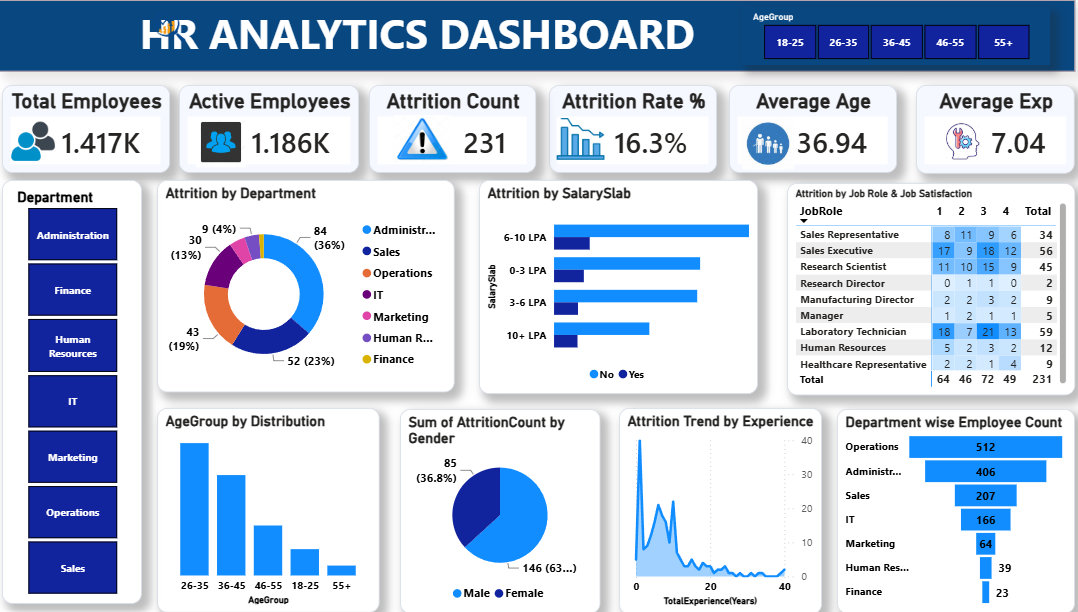

Layout of this report page (visuals, bound fields, positions):
{"tool":"powerbi","page":{"name":"HR ANALYRICS DASHBOARD ","canvas":[1280,720],"ordinal":0},"visuals":[{"type":"textbox","box":[10.6,0,1261.8,84.4],"z":0},{"type":"image","box":[162.2,0,97.8,64.4],"z":1000},{"type":"cardVisual","title":"Total Employees","fields":{"Data":["CountNonNull(HR_Analytics Data set.EmpID)"]},"box":[14.4,100,196.7,103.3],"z":2000},{"type":"cardVisual","title":"Attrition Rate %","fields":{"Data":["HR_Analytics Data set.Atrrition Rate %"]},"box":[655.5,99.7,197,103.2],"z":3000},{"type":"cardVisual","title":"Average Age","fields":{"Data":["Avg(HR_Analytics Data set.Age)"]},"box":[866.7,100,196.7,103.3],"z":4000},{"type":"cardVisual","title":"Average Exp","fields":{"Data":["Avg(HR_Analytics Data set.YearsatCompany)"]},"box":[1086.1,100,186.1,103.8],"z":5000},{"type":"cardVisual","title":"Active Employees","fields":{"Data":["CountNonNull(HR_Analytics Data set.EmployeeCount)"]},"box":[221.1,100,211.1,103.3],"z":6000},{"type":"cardVisual","title":"Attrition Count ","fields":{"Data":["Sum(HR_Analytics Data set.AttritionCount)"]},"box":[444.4,99.7,195.8,103.2],"z":7000},{"type":"image","box":[1112.7,141.8,57,48.1],"z":8000},{"type":"image","box":[233.3,136.7,74.4,58.9],"z":9000},{"type":"image","box":[655.5,138.4,73.9,49.3],"z":10000},{"type":"image","box":[471.4,134.9,71.5,56.3],"z":11000},{"type":"image","box":[882.2,134.4,61.1,67.8],"z":12000},{"type":"image","box":[14.4,136.7,73.3,56.7],"z":13000},{"type":"donutChart","title":"Attrition by Department","fields":{"Category":["HR_Analytics Data set.Department"],"Y":["Sum(HR_Analytics Data set.AttritionCount)"]},"box":[195.8,211.1,349.4,248.6],"z":14000},{"type":"clusteredBarChart","title":"Attrition by SalarySlab","fields":{"Y":["CountNonNull(HR_Analytics Data set.EmpID)"],"Category":["HR_Analytics Data set.SalarySlab"],"Series":["HR_Analytics Data set.Attrition"]},"box":[573.4,211.1,327.2,250.9],"z":15000},{"type":"pivotTable","title":"Attrition by Job Role & Job Satisfaction","fields":{"Rows":["HR_Analytics Data set.JobRole"],"Values":["Sum(HR_Analytics Data set.AttritionCount)"],"Columns":["HR_Analytics Data set.JobSatisfaction"]},"box":[934.6,214.6,337.7,248.6],"z":16000},{"type":"columnChart","title":"AgeGroup by Distribution","fields":{"Category":["HR_Analytics Data set.AgeGroup"],"Y":["Sum(HR_Analytics Data set.EmployeeCount)"]},"box":[195.8,478.4,261.5,240.4],"z":17000},{"type":"pieChart","fields":{"Category":["HR_Analytics Data set.Gender"],"Y":["Sum(HR_Analytics Data set.AttritionCount)"]},"box":[480.8,479.6,234.5,240.4],"z":18000},{"type":"areaChart","title":"Attrition Trend by Experience","fields":{"Category":["HR_Analytics Data set.TotalExperience(Years)"],"Y2":["Sum(HR_Analytics Data set.AttritionCount)"]},"box":[737.6,478.4,238,241.6],"z":19000},{"type":"funnel","title":"Department wise Employee Count","fields":{"Category":["HR_Analytics Data set.Department"],"Y":["CountNonNull(HR_Analytics Data set.EmpID)"]},"box":[993.2,479.6,279.1,240.4],"z":20000},{"type":"slicer","fields":{"Values":["HR_Analytics Data set.Department"]},"box":[14.1,211.1,164.2,497.2],"z":21000},{"type":"slicer","fields":{"Values":["HR_Analytics Data set.AgeGroup"]},"box":[881.8,8.2,361.2,68],"z":22000}]}

Visuals, with their boxes in screenshot pixels (x1, y1, x2, y2), scaled from the page's 1280x720 canvas onto the 1078x612 screenshot:
textbox: 9:0:1072:72
image: 137:0:219:55
"Total Employees" cardVisual: 12:85:178:173
"Attrition Rate %" cardVisual: 552:85:718:172
"Average Age" cardVisual: 730:85:896:173
"Average Exp" cardVisual: 915:85:1071:173
"Active Employees" cardVisual: 186:85:364:173
"Attrition Count " cardVisual: 374:85:539:172
image: 937:121:985:161
image: 196:116:259:166
image: 552:118:614:160
image: 397:115:457:163
image: 743:114:794:172
image: 12:116:74:164
"Attrition by Department" donutChart: 165:179:459:391
"Attrition by SalarySlab" clusteredBarChart: 483:179:758:393
"Attrition by Job Role & Job Satisfaction" pivotTable: 787:182:1072:394
"AgeGroup by Distribution" columnChart: 165:407:385:611
pieChart - HR_Analytics Data set.Gender x Sum(HR_Analytics Data set.AttritionCount): 405:408:602:611
"Attrition Trend by Experience" areaChart: 621:407:822:611
"Department wise Employee Count" funnel: 836:408:1072:611
slicer - HR_Analytics Data set.Department: 12:179:150:602
slicer - HR_Analytics Data set.AgeGroup: 743:7:1047:65
